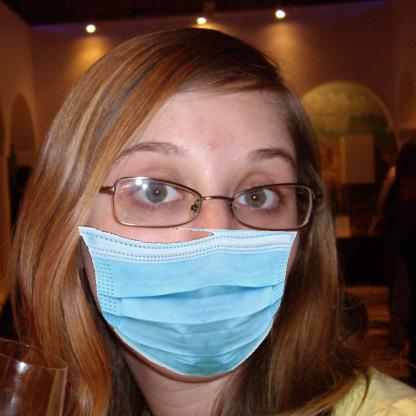Correctly_Masked: (82, 88, 302, 384)
